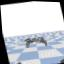drone: (23, 35, 47, 48)
